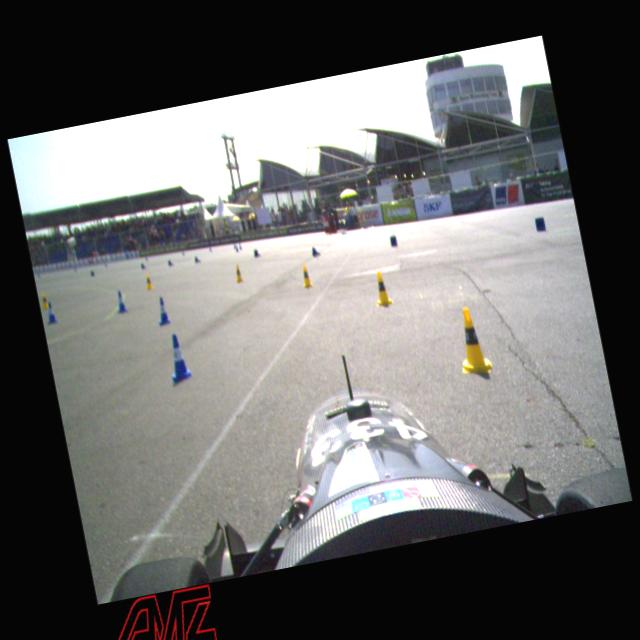blue_cone: (162, 332, 194, 386), (154, 296, 172, 326), (44, 298, 59, 326), (112, 288, 128, 314), (311, 246, 321, 256), (194, 254, 202, 264), (253, 248, 261, 258), (167, 258, 175, 267), (140, 262, 148, 269)
yellow_cone: (450, 304, 492, 378), (370, 269, 392, 307), (300, 264, 314, 289), (232, 264, 244, 284), (143, 272, 154, 291), (40, 290, 50, 310)
